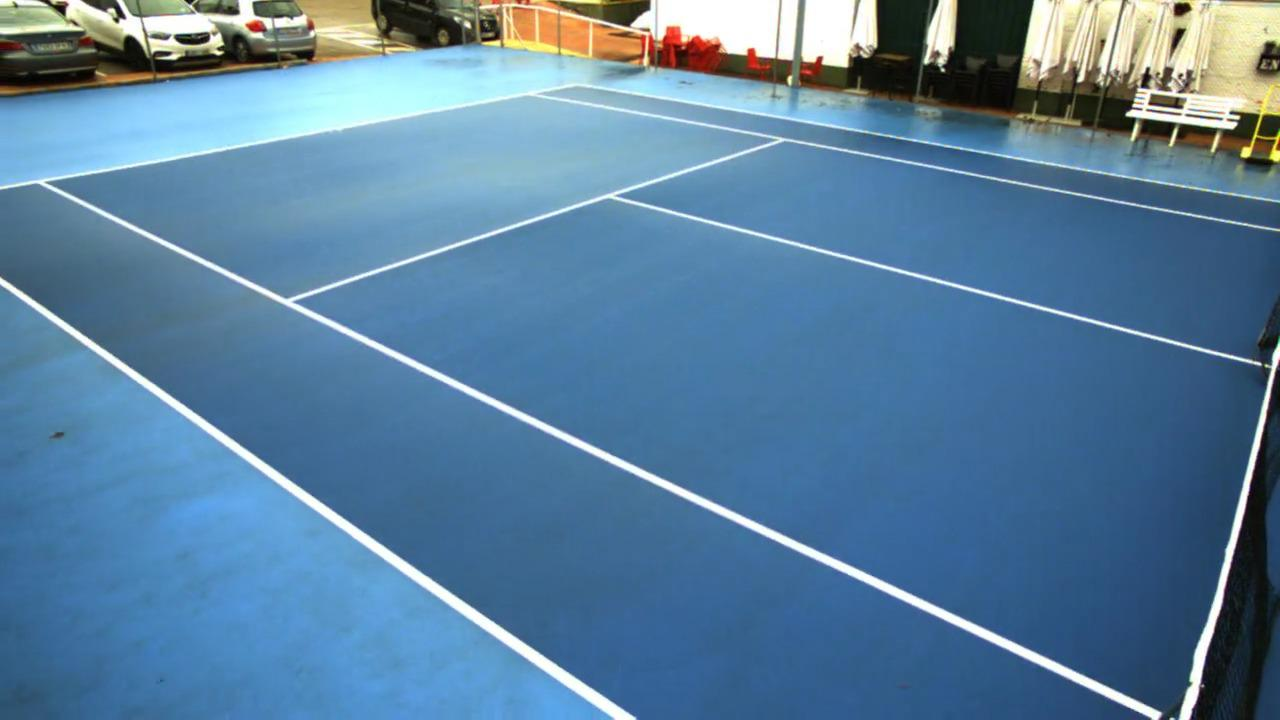cancha_tenis: (42, 91, 1280, 719)
point_f1: (29, 170, 60, 196)
point_f2: (518, 86, 542, 102)
point_fc1: (329, 121, 348, 136)
point_i1: (274, 288, 309, 316)
point_i2: (764, 128, 797, 150)
point_ic1: (595, 182, 629, 209)
